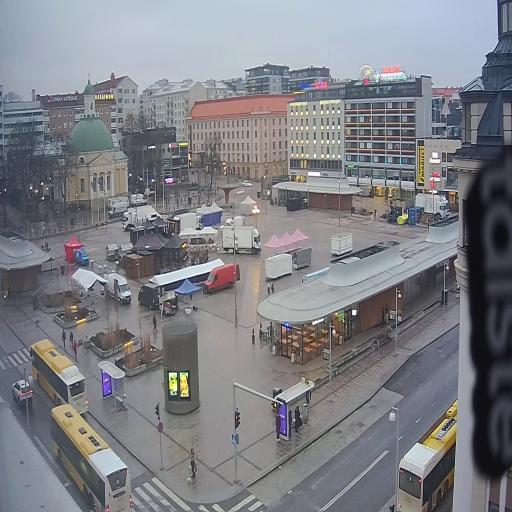bus: (48, 403, 135, 511), (390, 390, 463, 512), (25, 329, 93, 418)
car: (10, 371, 37, 412)
delivery: (220, 222, 264, 259), (202, 260, 242, 297), (104, 268, 134, 307), (412, 190, 446, 220), (121, 203, 157, 229), (138, 280, 163, 315), (170, 211, 204, 234), (101, 197, 130, 222), (122, 188, 152, 207), (221, 211, 247, 232), (72, 244, 91, 268)
